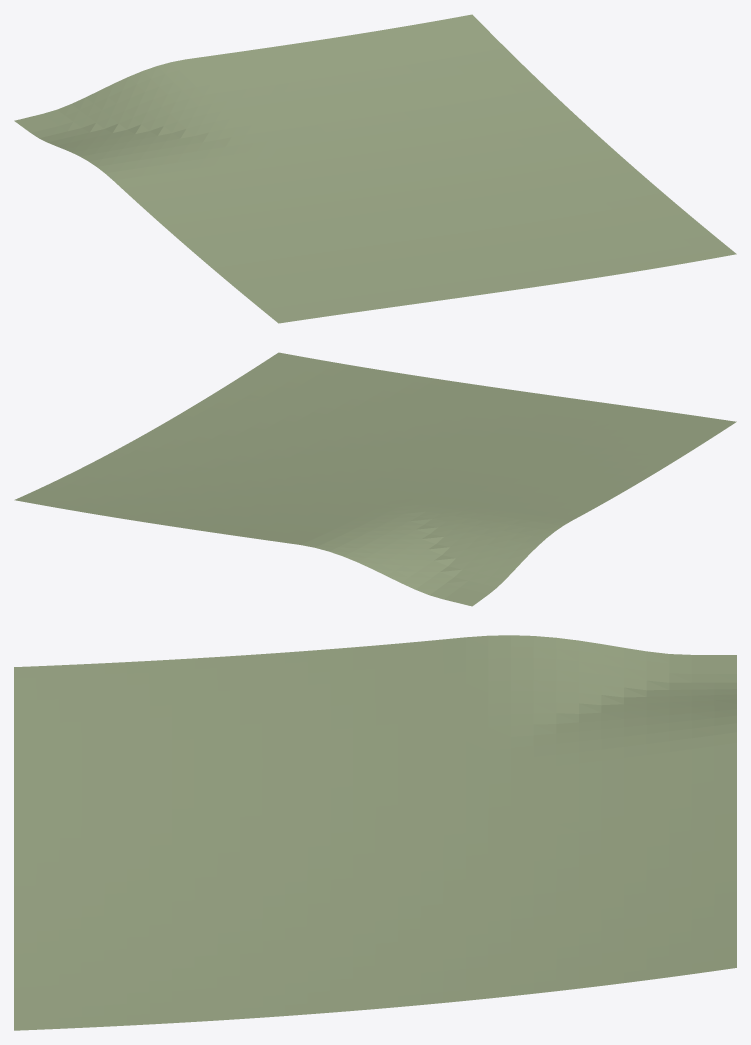
The model's file is valley-3-3.glb.
3 views of the same model, one above another, from view 1: azimuth 30°, elevation 25°; view 2: azimuth 150°, elevation 25°; view 3: azimuth 270°, elevation 25° (orthographic). The views are drawn at different scales.
Parts seen in each view (by area): view 1: valley-3-3; view 2: valley-3-3; view 3: valley-3-3.
Boxes of the visible parts, left/top/right/bottom form: valley-3-3: left=14, top=14, right=736, bottom=323; valley-3-3: left=14, top=352, right=736, bottom=606; valley-3-3: left=14, top=635, right=736, bottom=1030.
Bounding box in the file's own units: 256 × 38.32 × 256.
